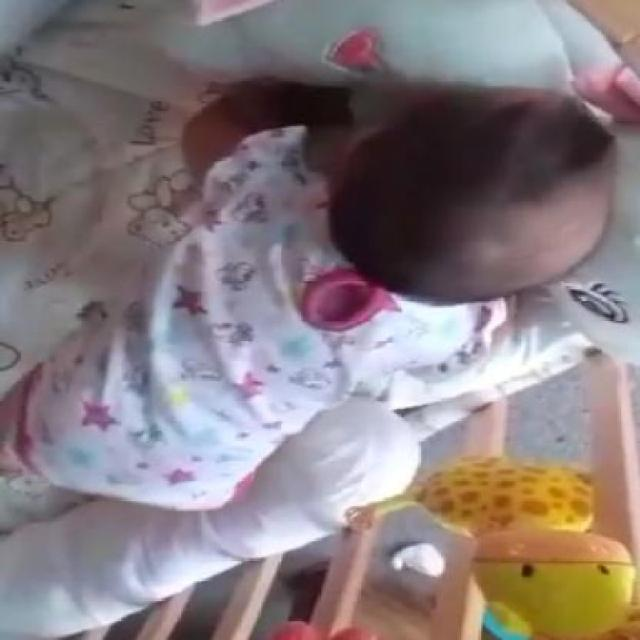baby: (3, 74, 620, 497)
